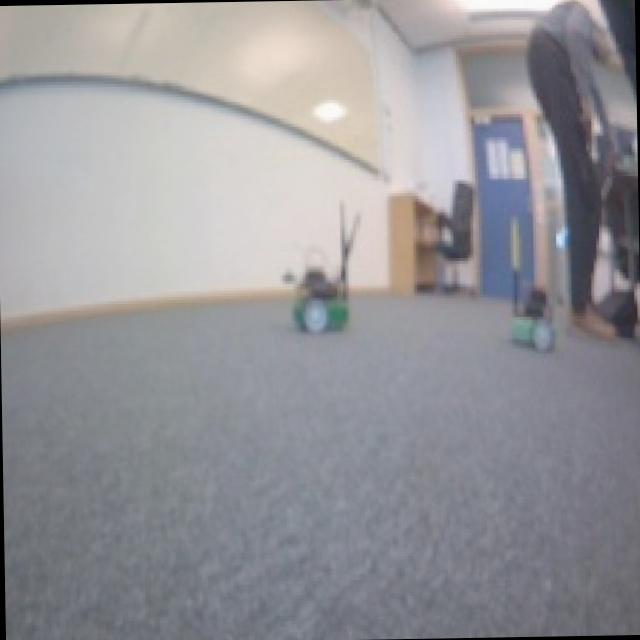robot: (284, 264, 356, 332), (504, 284, 560, 350)
